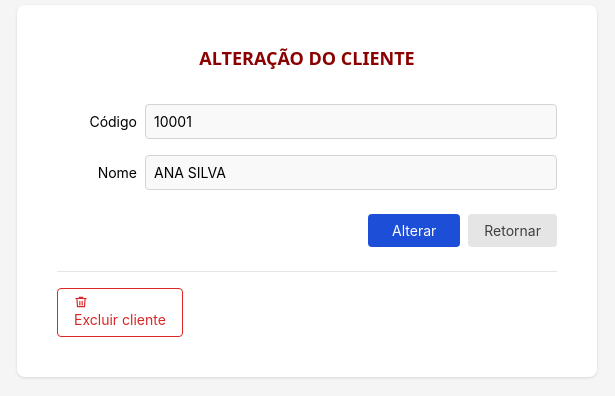
Alterar › habilitar edição › clicar em 'Alterar' remove readOnly dos campos
Click the button "Alterar" at (414, 230), box [368,214,460,247]
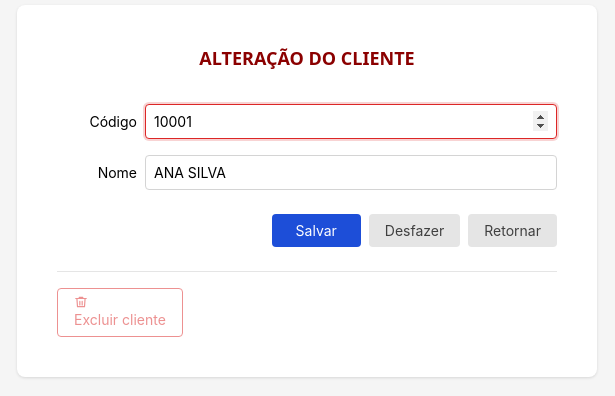
Now the button "Salvar" is shown, box [272,214,361,247]
